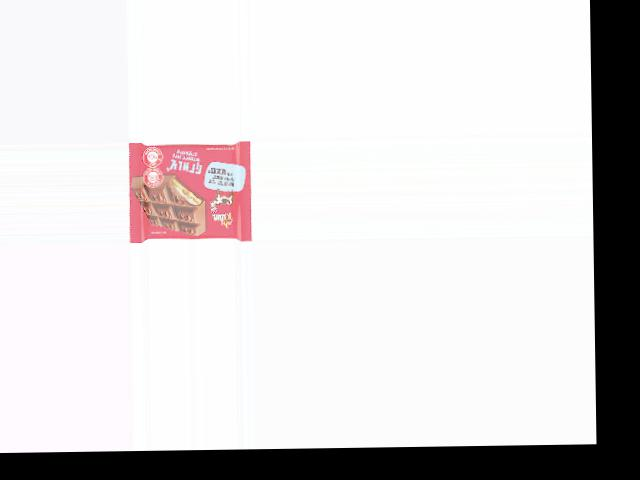chocolate: (130, 140, 247, 241)
